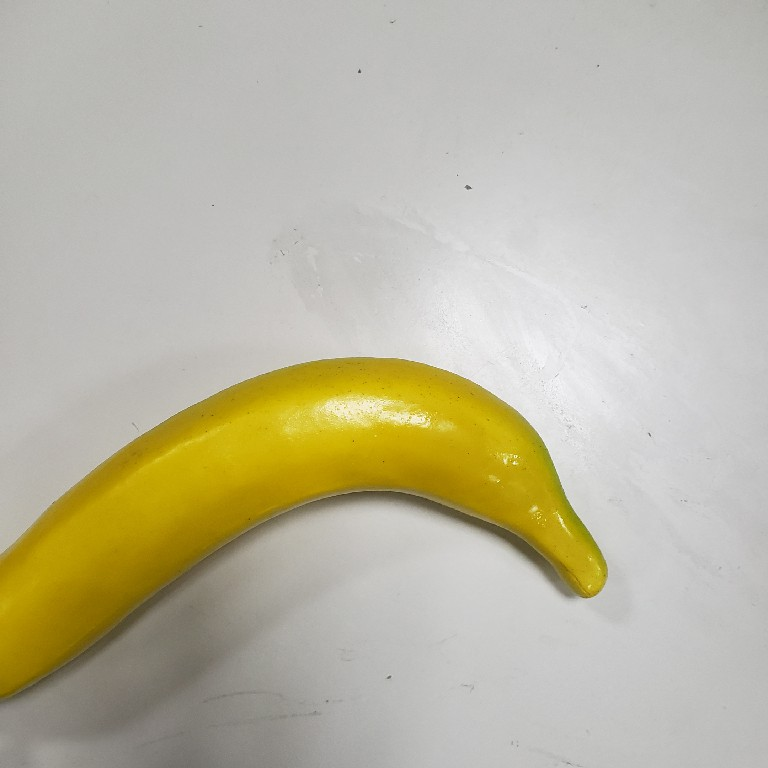fruit_banana: (1, 352, 612, 705)
